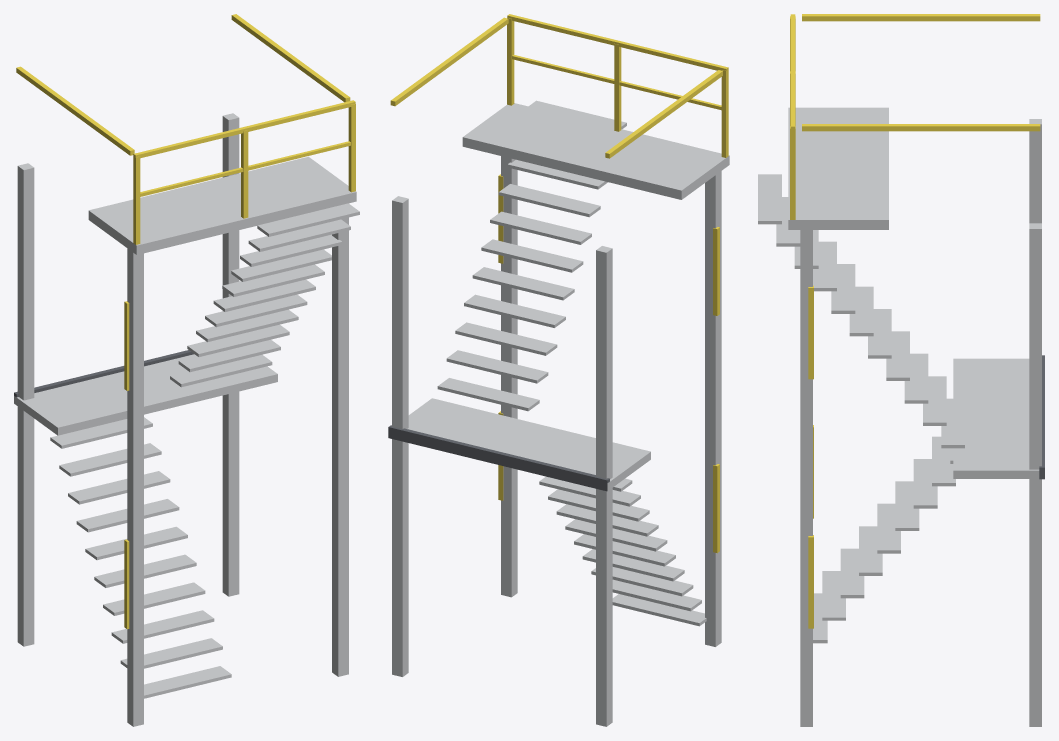
The model's file is shipyard-and-dry-dock-shipyard-and-dry-dock-dry-dock-s-4402cab7__37916.glb.
3 renders of one model, left to right at view 1: azimuth 30°, elevation 25°; view 2: azimuth 150°, elevation 25°; view 3: azimuth 270°, elevation 25°, orthographic. The views are drawn at different scales.
Parts seen in each view (by area): view 1: shipyard-and-dry-dock-dry-dock-stair-tower; view 2: shipyard-and-dry-dock-dry-dock-stair-tower; view 3: shipyard-and-dry-dock-dry-dock-stair-tower.
Boxes of the visible parts, x1,y1,x2,y2 form: shipyard-and-dry-dock-dry-dock-stair-tower: (14,14,359,726); shipyard-and-dry-dock-dry-dock-stair-tower: (388,14,729,726); shipyard-and-dry-dock-dry-dock-stair-tower: (758,14,1044,726).
Size of the model in its own units: 2.9 by 7.25 by 3.13.
